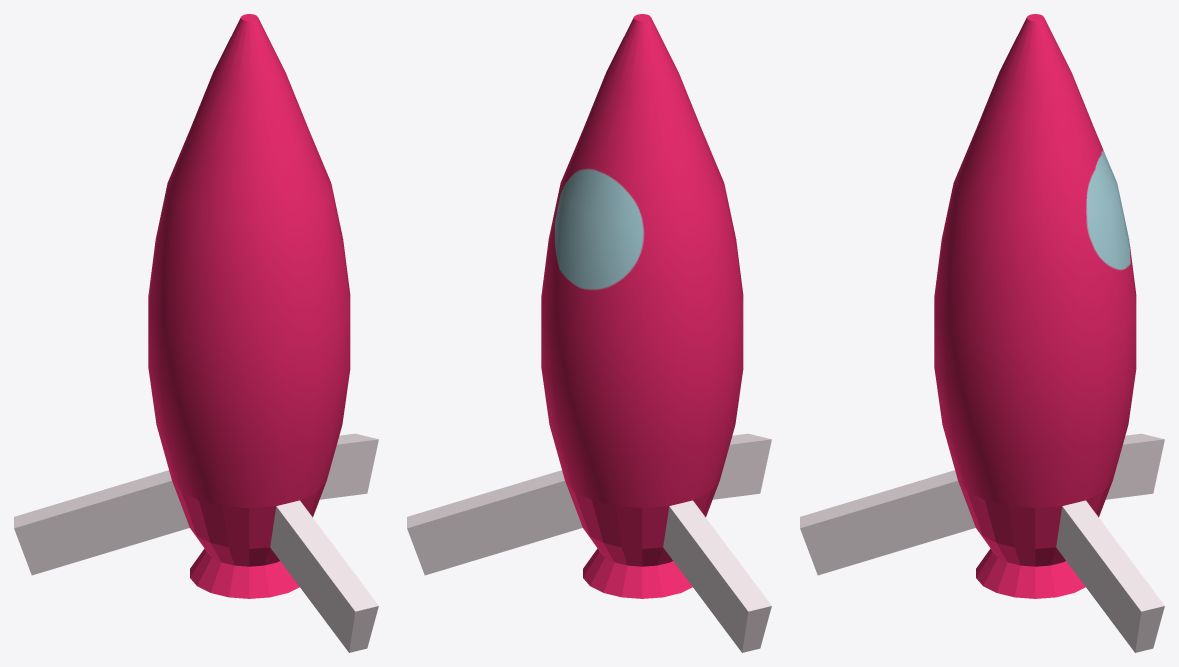
The model's file is coheteT.FBX.
The picture shows the model from 3 angles, left to right: view 1: azimuth 30°, elevation 25°; view 2: azimuth 150°, elevation 25°; view 3: azimuth 270°, elevation 25°; orthographic projection.
Size of the model in its own units: 114 by 166 by 98.59.
Materials: 1 (1 with a texture image).
